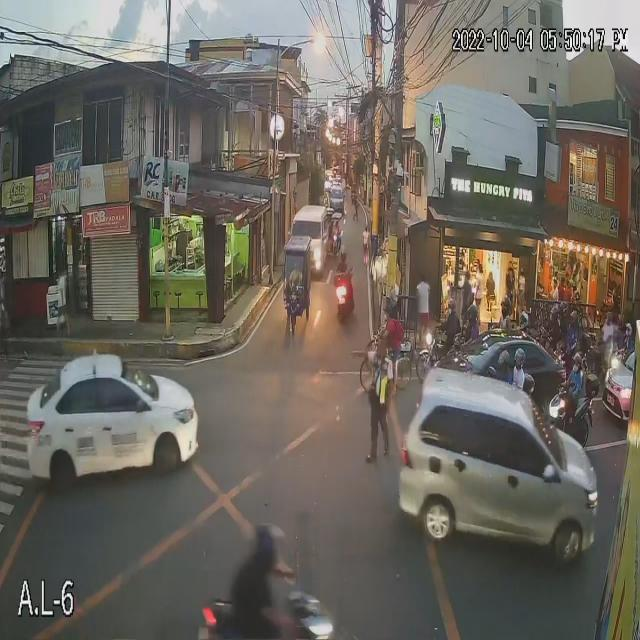helmet: (246, 521, 284, 561), (498, 349, 514, 372), (556, 299, 570, 324), (570, 352, 582, 375), (513, 348, 526, 369), (569, 309, 580, 331), (548, 303, 558, 327), (444, 300, 458, 317), (465, 305, 479, 321), (604, 309, 615, 327), (338, 249, 348, 264), (624, 322, 632, 338)
motorcycle: (199, 589, 334, 630), (543, 382, 599, 443), (331, 269, 356, 323), (416, 329, 443, 377), (605, 347, 630, 378)
rider: (234, 514, 289, 611), (567, 350, 584, 407), (598, 306, 618, 353), (334, 245, 352, 290), (441, 297, 456, 351), (497, 347, 514, 394), (513, 345, 528, 398), (562, 306, 582, 345), (462, 304, 478, 343), (498, 289, 514, 327), (545, 302, 560, 339), (514, 309, 533, 338), (556, 296, 569, 335), (625, 317, 635, 355)
